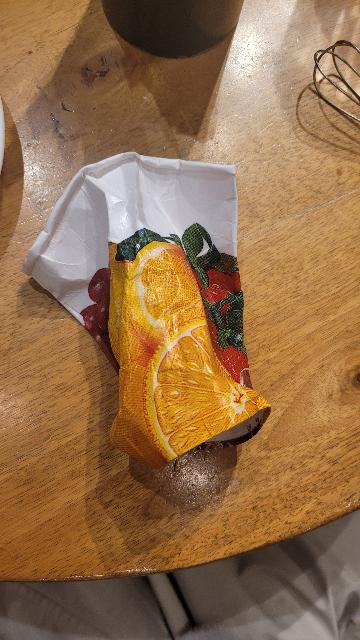Plastik: (17, 159, 270, 466)
